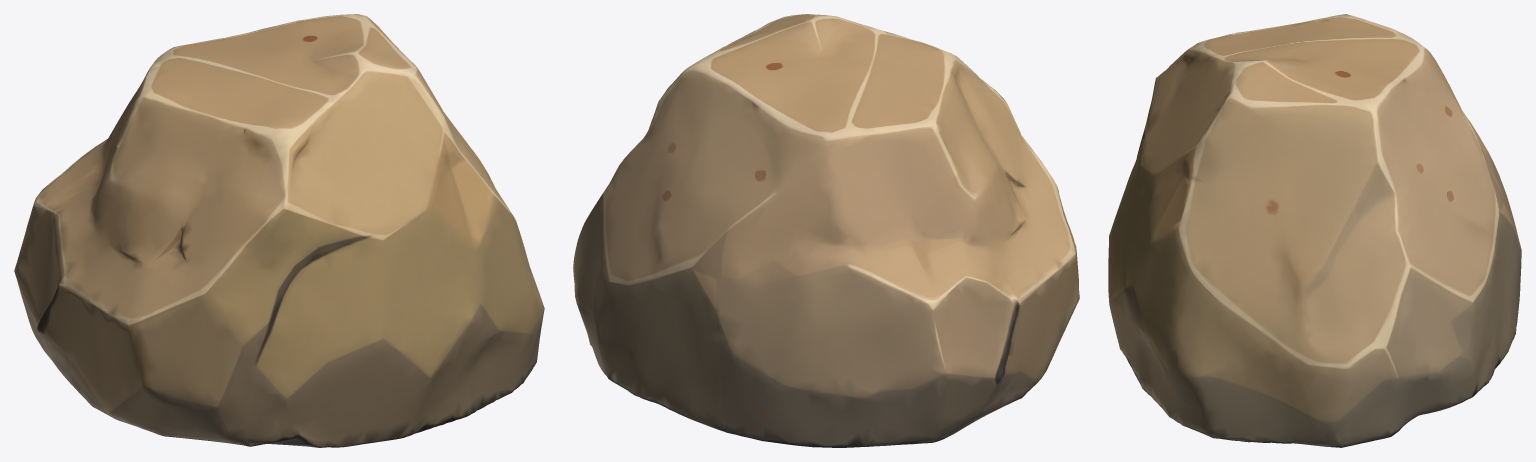
The model's file is boulder.fbx.
3 renders of one model, left to right at view 1: azimuth 30°, elevation 25°; view 2: azimuth 150°, elevation 25°; view 3: azimuth 270°, elevation 25°, orthographic. The views are drawn at different scales.
Visible parts, largest first — view 1: Mesh_0; view 2: Mesh_0; view 3: Mesh_0.
Part boxes in pixels (x1=…): Mesh_0: x1=14, y1=14, x2=544, y2=447; Mesh_0: x1=573, y1=14, x2=1079, y2=447; Mesh_0: x1=1108, y1=14, x2=1521, y2=447.
Size of the model in its own units: 191 by 134 by 162.
Materials: 1 (1 with a texture image).
